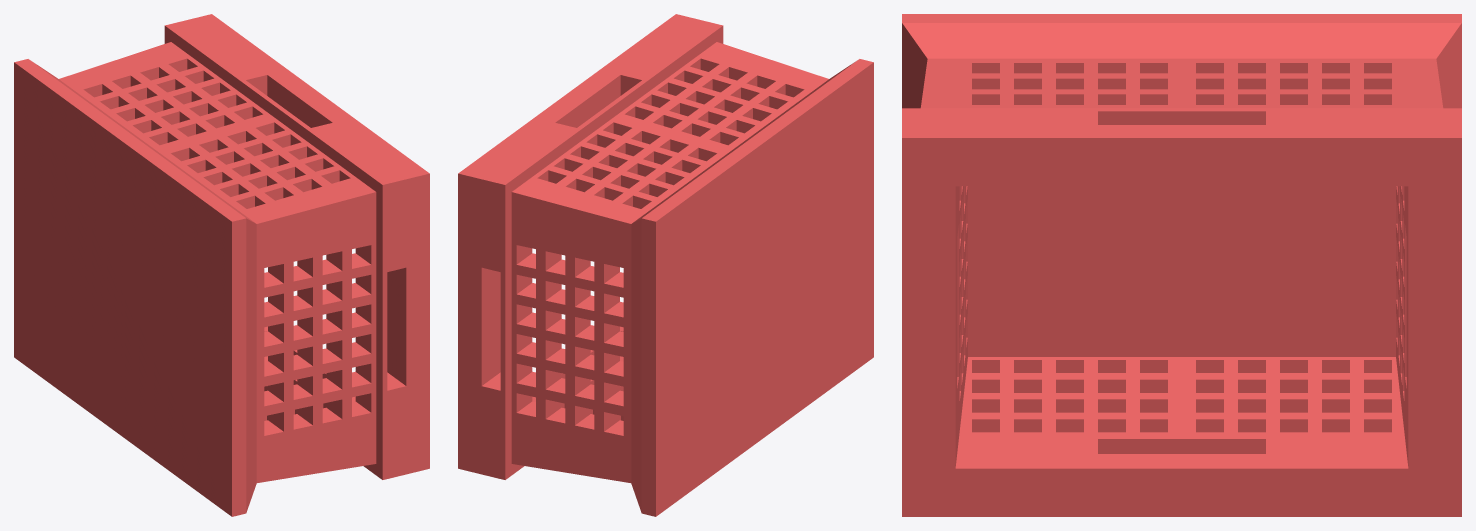
Rendered from Akro_mils.obj.
The picture shows the model from 3 angles, left to right: view 1: azimuth 30°, elevation 25°; view 2: azimuth 150°, elevation 25°; view 3: azimuth 270°, elevation 25°; orthographic projection. The views are drawn at different scales.
Bounding box in the file's own units: 0.2096 × 0.2989 × 0.4.
